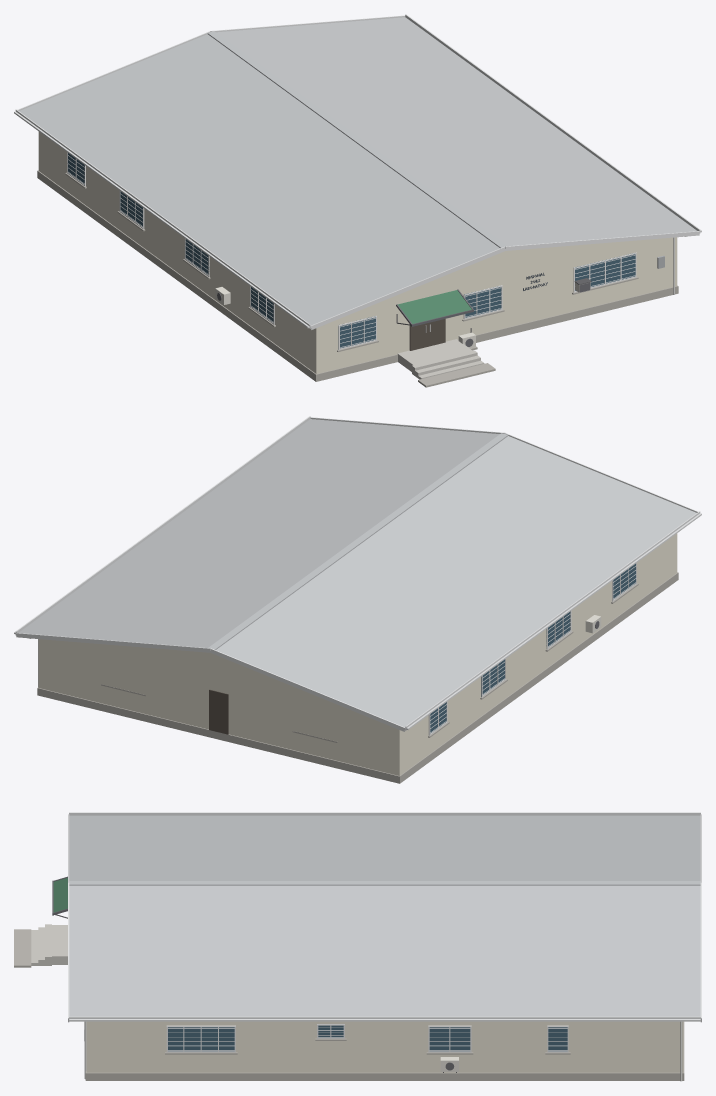
File: rsl_building.glb
3 views of the same model, one above another, from view 1: azimuth 30°, elevation 25°; view 2: azimuth 150°, elevation 25°; view 3: azimuth 270°, elevation 25° (orthographic). The views are drawn at different scales.
Visible parts, largest first — view 1: RSL_Batch_RSL_RoofMetal, RSL_Batch_RSL_WallCream, RSL_Batch_RSL_PlinthGrey, RSL_Batch_RSL_FasciaWhite, RSL_Batch_RSL_GlassTinted, RSL_Batch_RSL_ConcreteSteps, RSL_Batch_RSL_FrameWhite, RSL_Batch_RSL_CanopyGreen, RSL_Batch_RSL_GrilleWhite, RSL_Batch_RSL_BronzeDoor; view 2: RSL_Batch_RSL_RoofMetal, RSL_Batch_RSL_WallCream, RSL_Batch_RSL_FasciaWhite, RSL_Batch_RSL_PlinthGrey, RSL_Batch_RSL_GlassTinted, RSL_Batch_RSL_BronzeDoor, RSL_Batch_RSL_FrameWhite; view 3: RSL_Batch_RSL_RoofMetal, RSL_Batch_RSL_WallCream, RSL_Batch_RSL_FasciaWhite, RSL_Batch_RSL_PlinthGrey, RSL_Batch_RSL_GlassTinted, RSL_Batch_RSL_ConcreteSteps, RSL_Batch_RSL_FrameWhite, RSL_Batch_RSL_GrilleWhite, RSL_Batch_RSL_CanopyGreen.
Boxes of the visible parts, bbox=[...] form: RSL_Batch_RSL_RoofMetal: bbox=[19, 17, 696, 325]; RSL_Batch_RSL_WallCream: bbox=[38, 131, 677, 373]; RSL_Batch_RSL_PlinthGrey: bbox=[37, 170, 678, 387]; RSL_Batch_RSL_FasciaWhite: bbox=[14, 14, 701, 329]; RSL_Batch_RSL_GlassTinted: bbox=[68, 153, 635, 349]; RSL_Batch_RSL_ConcreteSteps: bbox=[397, 339, 484, 379]; RSL_Batch_RSL_FrameWhite: bbox=[67, 152, 636, 349]; RSL_Batch_RSL_CanopyGreen: bbox=[398, 290, 471, 323]; RSL_Batch_RSL_GrilleWhite: bbox=[67, 155, 635, 347]; RSL_Batch_RSL_BronzeDoor: bbox=[409, 319, 445, 350]; RSL_Batch_RSL_RoofMetal: bbox=[19, 419, 696, 727]; RSL_Batch_RSL_WallCream: bbox=[38, 533, 677, 775]; RSL_Batch_RSL_FasciaWhite: bbox=[14, 416, 701, 731]; RSL_Batch_RSL_PlinthGrey: bbox=[37, 572, 678, 783]; RSL_Batch_RSL_GlassTinted: bbox=[430, 563, 635, 733]; RSL_Batch_RSL_BronzeDoor: bbox=[209, 689, 228, 734]; RSL_Batch_RSL_FrameWhite: bbox=[428, 563, 636, 735]; RSL_Batch_RSL_RoofMetal: bbox=[69, 815, 700, 1016]; RSL_Batch_RSL_WallCream: bbox=[86, 1021, 683, 1072]; RSL_Batch_RSL_FasciaWhite: bbox=[68, 812, 701, 1022]; RSL_Batch_RSL_PlinthGrey: bbox=[14, 929, 684, 1080]; RSL_Batch_RSL_GlassTinted: bbox=[168, 1025, 567, 1051]; RSL_Batch_RSL_ConcreteSteps: bbox=[31, 924, 67, 965]; RSL_Batch_RSL_FrameWhite: bbox=[166, 1024, 568, 1052]; RSL_Batch_RSL_GrilleWhite: bbox=[168, 1025, 567, 1050]; RSL_Batch_RSL_CanopyGreen: bbox=[53, 878, 67, 912].
Size of the model in its own units: 22.62 by 5.31 by 31.82.
